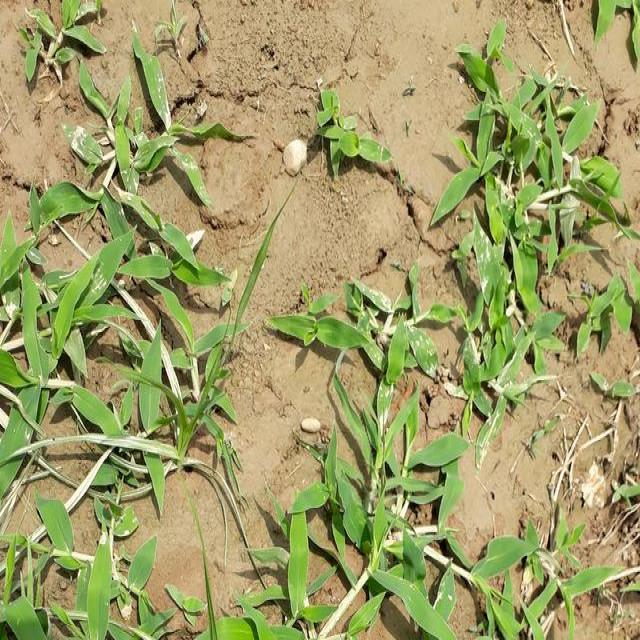weed: (0, 82, 198, 512), (429, 43, 639, 412), (264, 287, 481, 640)
